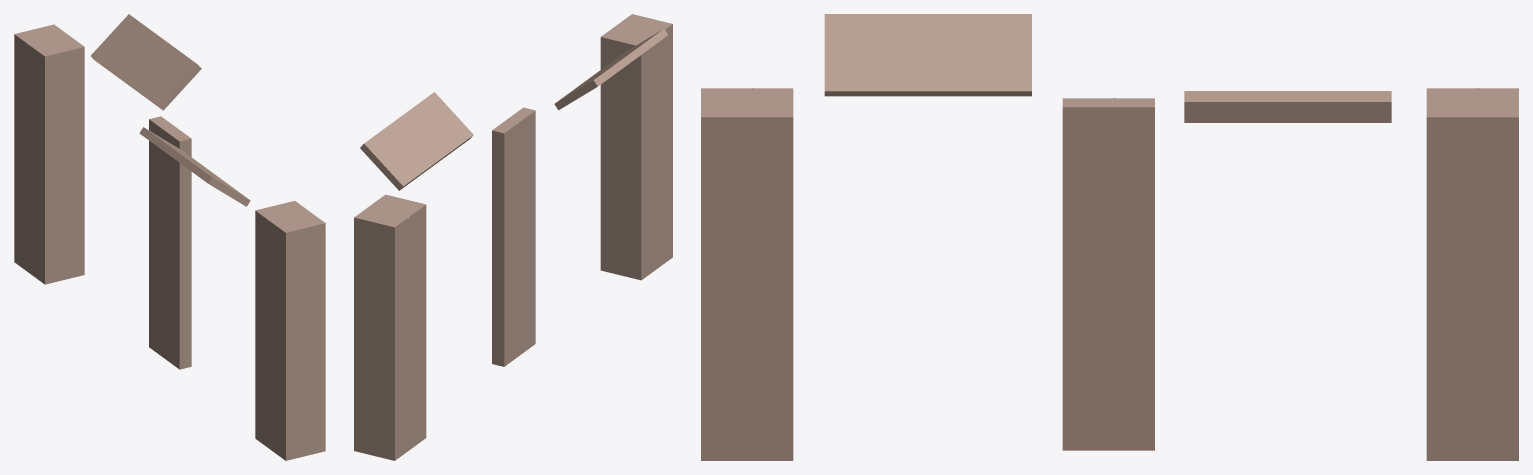
File: Nivel11.fbx
3 views of the same model, side by side, from view 1: azimuth 30°, elevation 25°; view 2: azimuth 150°, elevation 25°; view 3: azimuth 270°, elevation 25° (orthographic). The views are drawn at different scales.
Visible parts, largest first — view 1: Plataforma-M.016, Plataforma-M.015, Plataforma-M.017, Cubo.036, Cubo.035; view 2: Plataforma-M.016, Plataforma-M.015, Plataforma-M.017, Cubo.036, Cubo.035; view 3: Plataforma-M.015, Plataforma-M.016, Plataforma-M.017, Cubo.035, Cubo.036.
Part boxes in pixels (<box>): Plataforma-M.016: <box>14,24,84,284</box>; Plataforma-M.015: <box>255,201,325,460</box>; Plataforma-M.017: <box>149,116,191,369</box>; Cubo.036: <box>91,14,201,110</box>; Cubo.035: <box>139,127,250,206</box>; Plataforma-M.016: <box>354,194,426,460</box>; Plataforma-M.015: <box>600,14,672,280</box>; Plataforma-M.017: <box>492,107,535,366</box>; Cubo.036: <box>360,92,473,190</box>; Cubo.035: <box>554,29,667,110</box>; Plataforma-M.015: <box>701,88,793,460</box>; Plataforma-M.016: <box>1426,88,1518,460</box>; Plataforma-M.017: <box>1062,98,1154,450</box>; Cubo.035: <box>824,14,1031,96</box>; Cubo.036: <box>1184,91,1391,122</box>.
Bounding box in the file's own units: 3452 × 7626 × 14354.
